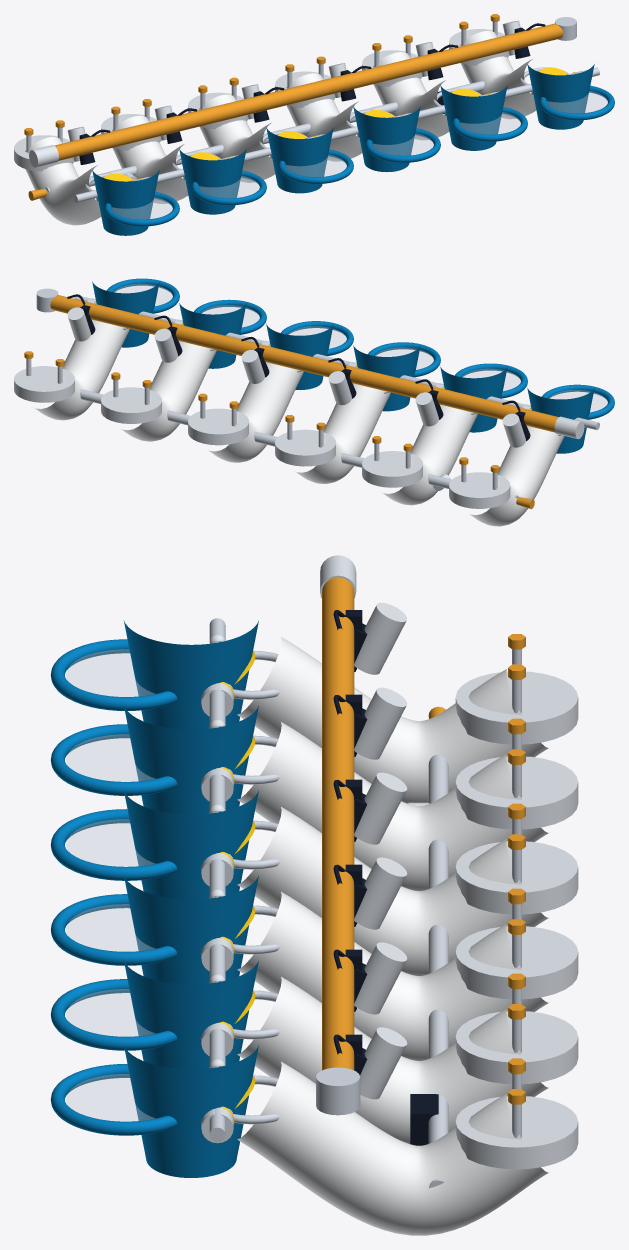
The model's file is intake-manifold-right.glb.
3 views of the same model, one above another, from view 1: azimuth 30°, elevation 25°; view 2: azimuth 150°, elevation 25°; view 3: azimuth 270°, elevation 25° (orthographic). The views are drawn at different scales.
Parts seen in each view (by area): view 1: GDI_350Bar_Forged_Fuel_Rail, Ceramic_Intake_Runner_1, Cobalt_Velocity_Stack_5, Cobalt_Velocity_Stack_1, Cobalt_Velocity_Stack_2, Cobalt_Velocity_Stack_6, Cobalt_Velocity_Stack_4, Cobalt_Velocity_Stack_3, Ceramic_Intake_Runner_5, Ceramic_Intake_Runner_4, Ceramic_Intake_Runner_3, Ceramic_Intake_Runner_6 (+23 smaller); view 2: GDI_350Bar_Forged_Fuel_Rail, Ceramic_Intake_Runner_1, Ceramic_Intake_Runner_3, Ceramic_Intake_Runner_6, Ceramic_Intake_Runner_4, Ceramic_Intake_Runner_5, Ceramic_Intake_Runner_2, Runner_Mating_Flange_Base_4, Runner_Mating_Flange_Base_1, Runner_Mating_Flange_Base_3, Runner_Mating_Flange_Base_5, Runner_Mating_Flange_Base_6 (+29 smaller); view 3: Ceramic_Intake_Runner_6, GDI_350Bar_Forged_Fuel_Rail, Ceramic_Intake_Runner_4, Ceramic_Intake_Runner_2, Ceramic_Intake_Runner_3, Ceramic_Intake_Runner_1, Ceramic_Intake_Runner_5, Cobalt_Velocity_Stack_6, Cobalt_Velocity_Stack_1, Cobalt_Velocity_Stack_2, Cobalt_Velocity_Stack_5, Cobalt_Velocity_Stack_4 (+30 smaller).
Part boxes in pixels (<box>): GDI_350Bar_Forged_Fuel_Rail: <box>54,23,562,160</box>; Ceramic_Intake_Runner_1: <box>25,137,101,225</box>; Cobalt_Velocity_Stack_5: <box>440,85,507,150</box>; Cobalt_Velocity_Stack_1: <box>92,170,159,235</box>; Cobalt_Velocity_Stack_2: <box>179,148,246,214</box>; Cobalt_Velocity_Stack_6: <box>527,64,594,129</box>; Cobalt_Velocity_Stack_4: <box>353,106,420,171</box>; Cobalt_Velocity_Stack_3: <box>266,127,333,193</box>; Ceramic_Intake_Runner_5: <box>373,52,449,140</box>; Ceramic_Intake_Runner_4: <box>286,73,362,161</box>; Ceramic_Intake_Runner_3: <box>199,94,275,182</box>; Ceramic_Intake_Runner_6: <box>460,31,536,119</box>; GDI_350Bar_Forged_Fuel_Rail: <box>50,295,558,432</box>; Ceramic_Intake_Runner_1: <box>469,426,564,526</box>; Ceramic_Intake_Runner_3: <box>294,383,390,483</box>; Ceramic_Intake_Runner_6: <box>33,319,129,420</box>; Ceramic_Intake_Runner_4: <box>208,362,303,462</box>; Ceramic_Intake_Runner_5: <box>121,341,216,441</box>; Ceramic_Intake_Runner_2: <box>382,404,477,505</box>; Runner_Mating_Flange_Base_4: <box>188,408,248,445</box>; Runner_Mating_Flange_Base_1: <box>449,472,510,508</box>; Runner_Mating_Flange_Base_3: <box>275,429,335,466</box>; Runner_Mating_Flange_Base_5: <box>101,387,161,423</box>; Runner_Mating_Flange_Base_6: <box>14,366,74,402</box>; Ceramic_Intake_Runner_6: <box>237,1061,548,1235</box>; GDI_350Bar_Forged_Fuel_Rail: <box>322,577,354,1070</box>; Ceramic_Intake_Runner_4: <box>237,891,549,1060</box>; Ceramic_Intake_Runner_2: <box>237,722,548,890</box>; Ceramic_Intake_Runner_3: <box>237,807,548,975</box>; Ceramic_Intake_Runner_1: <box>237,637,548,803</box>; Ceramic_Intake_Runner_5: <box>237,976,548,1143</box>; Cobalt_Velocity_Stack_6: <box>124,1045,258,1177</box>; Cobalt_Velocity_Stack_1: <box>123,620,258,729</box>; Cobalt_Velocity_Stack_2: <box>124,705,258,814</box>; Cobalt_Velocity_Stack_5: <box>124,960,258,1069</box>; Cobalt_Velocity_Stack_4: <box>124,875,258,984</box>.
Size of the model in its own units: 0.623 by 0.1135 by 0.2625.
